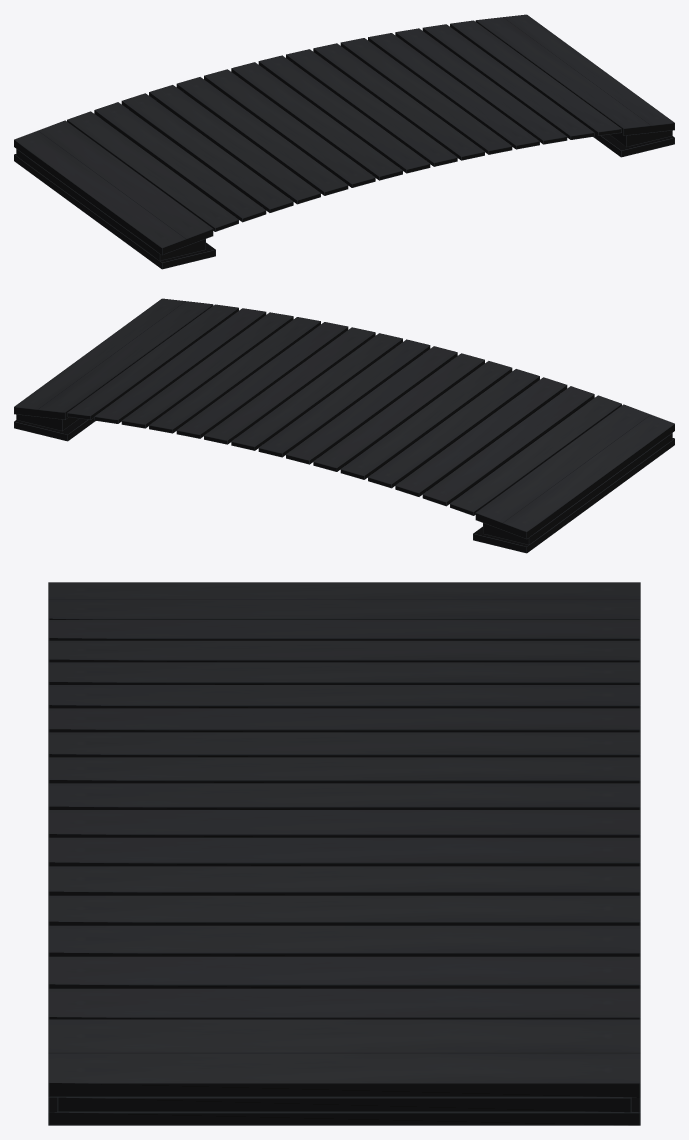
Rendered from bridge.glb.
3 views of the same model, one above another, from view 1: azimuth 30°, elevation 25°; view 2: azimuth 150°, elevation 25°; view 3: azimuth 270°, elevation 25° (orthographic). The views are drawn at different scales.
Visible parts, largest first — view 1: bridge; view 2: bridge; view 3: bridge.
Boxes of the visible parts, x1,y1,x2,y2 form: bridge: (14,14,674,269); bridge: (14,298,674,553); bridge: (48,582,640,1125).
Bounding box in the file's own units: 4 × 0.3 × 2.
Materials: 2 (2 with a texture image).
